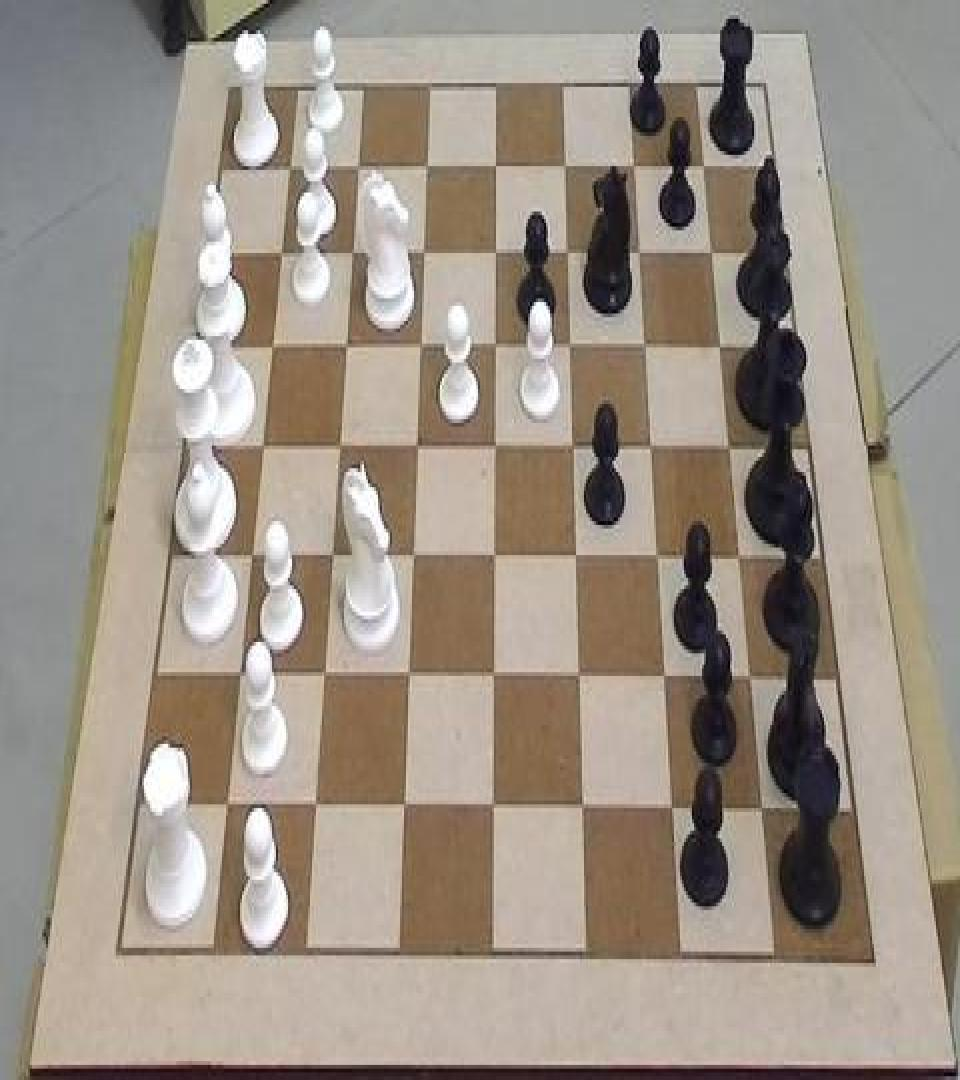xcorner: (693, 147, 713, 185), (623, 147, 643, 185), (554, 147, 574, 185), (484, 147, 504, 185), (415, 147, 435, 185), (346, 147, 366, 185), (277, 147, 297, 185), (701, 234, 721, 272), (628, 232, 648, 270), (556, 232, 576, 270), (484, 232, 504, 270), (412, 232, 432, 270), (341, 232, 361, 270), (269, 232, 289, 270), (709, 326, 729, 364), (634, 326, 654, 364), (559, 326, 579, 364), (484, 324, 504, 362), (409, 324, 429, 362), (335, 324, 355, 362), (260, 324, 280, 362), (719, 428, 739, 466), (640, 426, 660, 464), (562, 426, 582, 464), (484, 426, 504, 464), (406, 426, 426, 464), (328, 424, 348, 462), (251, 424, 271, 462), (729, 538, 749, 576), (647, 538, 667, 576), (565, 536, 585, 574), (484, 536, 504, 574), (402, 536, 422, 574), (321, 534, 341, 572), (240, 534, 260, 572), (741, 659, 761, 697), (655, 659, 675, 697), (569, 657, 589, 695), (484, 657, 504, 695), (398, 655, 418, 693), (313, 655, 333, 693), (229, 653, 249, 691), (753, 791, 773, 829), (663, 791, 683, 829), (573, 789, 593, 827), (483, 787, 503, 825), (394, 787, 414, 825), (305, 786, 325, 824), (216, 786, 236, 824)
